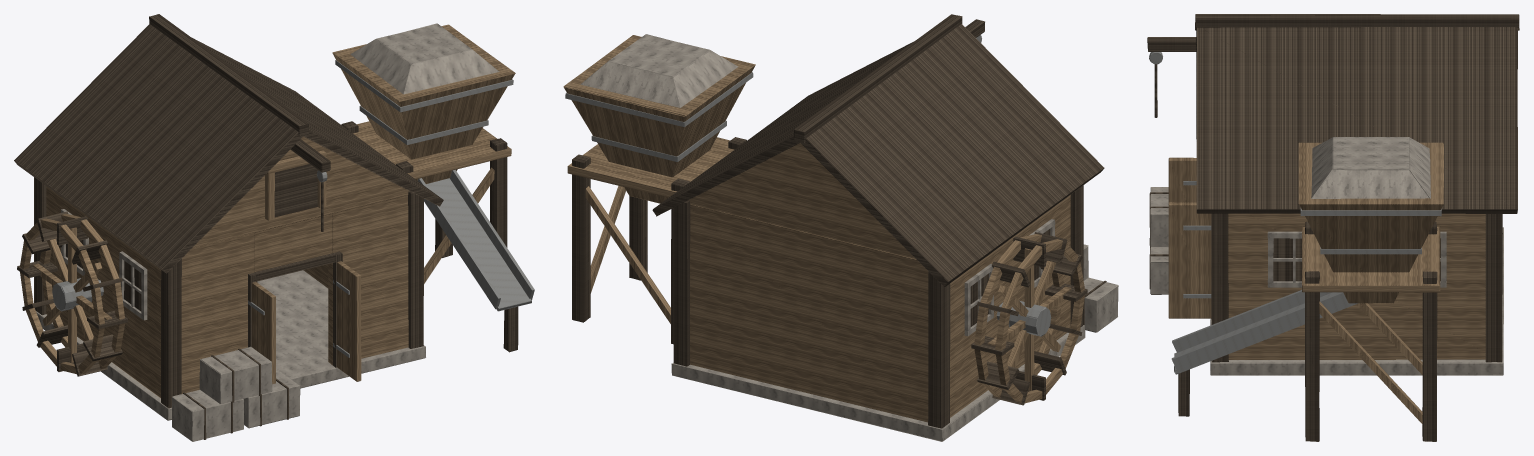
Rendered from mill.glb.
3 renders of one model, left to right at view 1: azimuth 30°, elevation 25°; view 2: azimuth 150°, elevation 25°; view 3: azimuth 270°, elevation 25°, orthographic. The views are drawn at different scales.
Parts seen in each view (by area): view 1: Mill; view 2: Mill; view 3: Mill.
Part boxes in pixels (box(x1,y1,x2,y2)): Mill: box(14, 14, 534, 441); Mill: box(563, 14, 1118, 441); Mill: box(1147, 14, 1519, 441).
Bounding box in the file's own units: 10.62 × 6.46 × 7.46.
4 materials, 4 textured.
